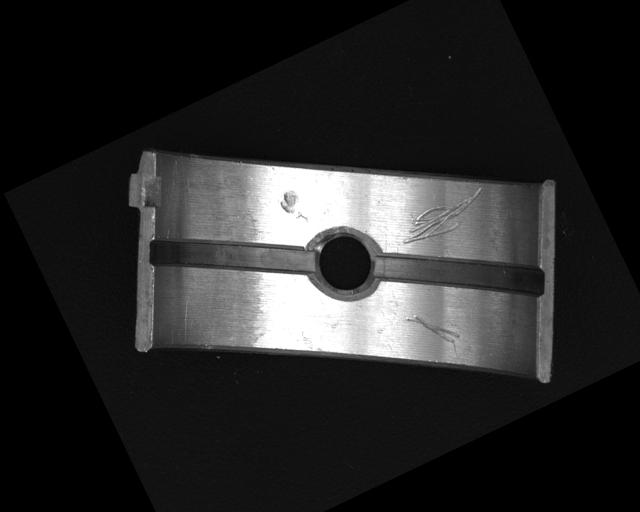bruise: (275, 186, 311, 230)
gap: (371, 196, 549, 353), (144, 183, 316, 332)
hole: (297, 216, 392, 309)
nick: (393, 183, 494, 253), (405, 299, 462, 356)
